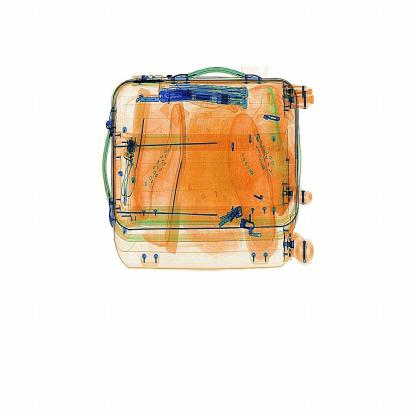knife: (152, 80, 200, 115)
